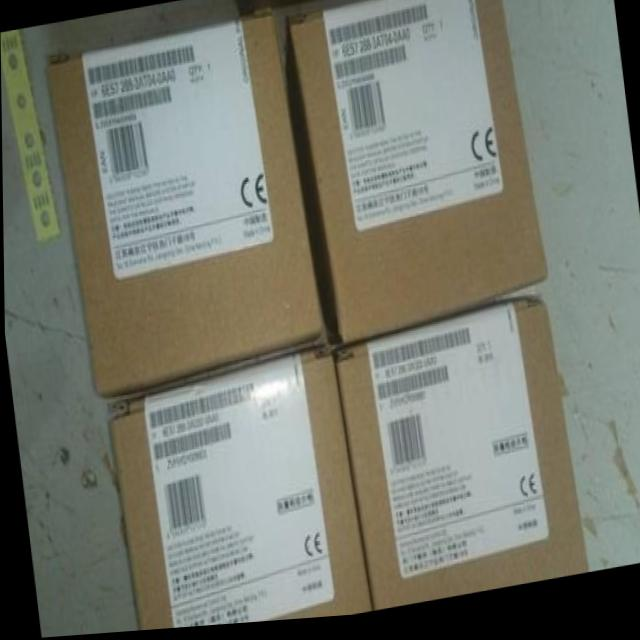box: (43, 13, 324, 401), (283, 0, 549, 349), (332, 305, 588, 616), (104, 348, 371, 633)
